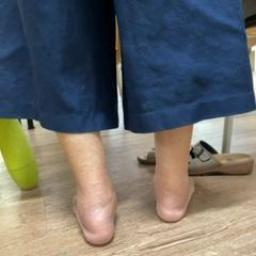Back View -Both Feet-: (45, 124, 220, 250)
